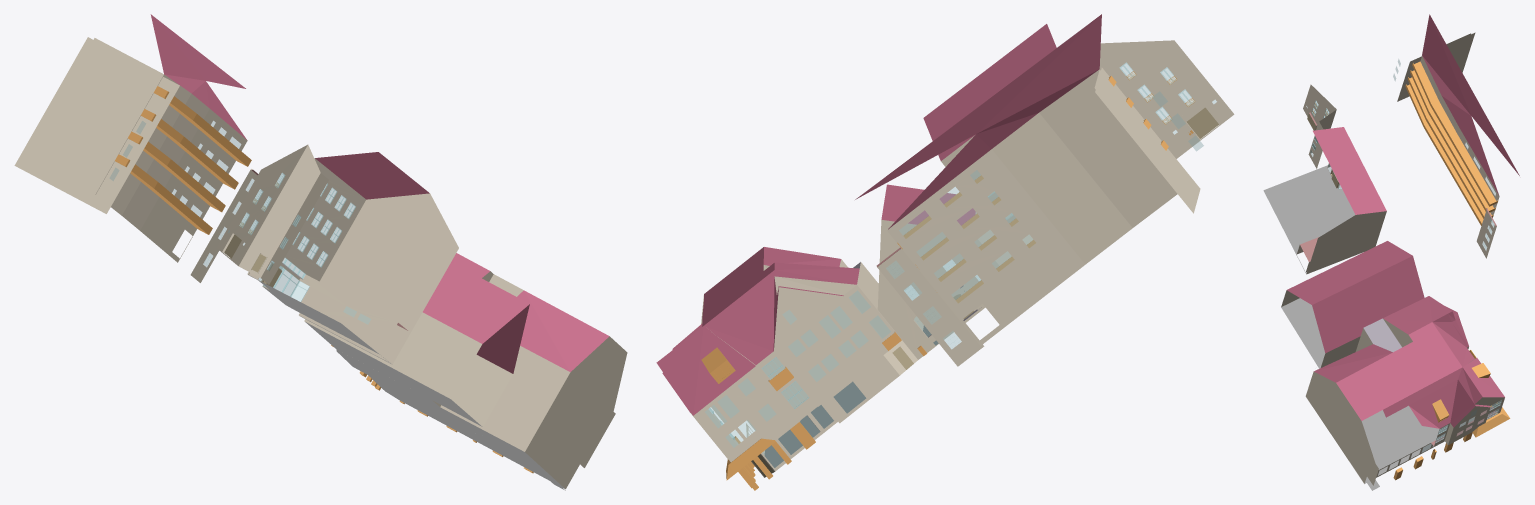
The picture shows the model from 3 angles, left to right: view 1: azimuth 30°, elevation 25°; view 2: azimuth 150°, elevation 25°; view 3: azimuth 270°, elevation 25°; orthographic projection. The views are drawn at different scales.
Visible parts, largest first — view 1: mesh; view 2: mesh; view 3: mesh.
Part boxes in pixels (left/top/right/bottom): mesh: left=14, top=14, right=627, bottom=490; mesh: left=656, top=14, right=1234, bottom=490; mesh: left=1263, top=14, right=1519, bottom=490.
Size of the model in its own units: 64.52 by 61.4 by 40.2.
